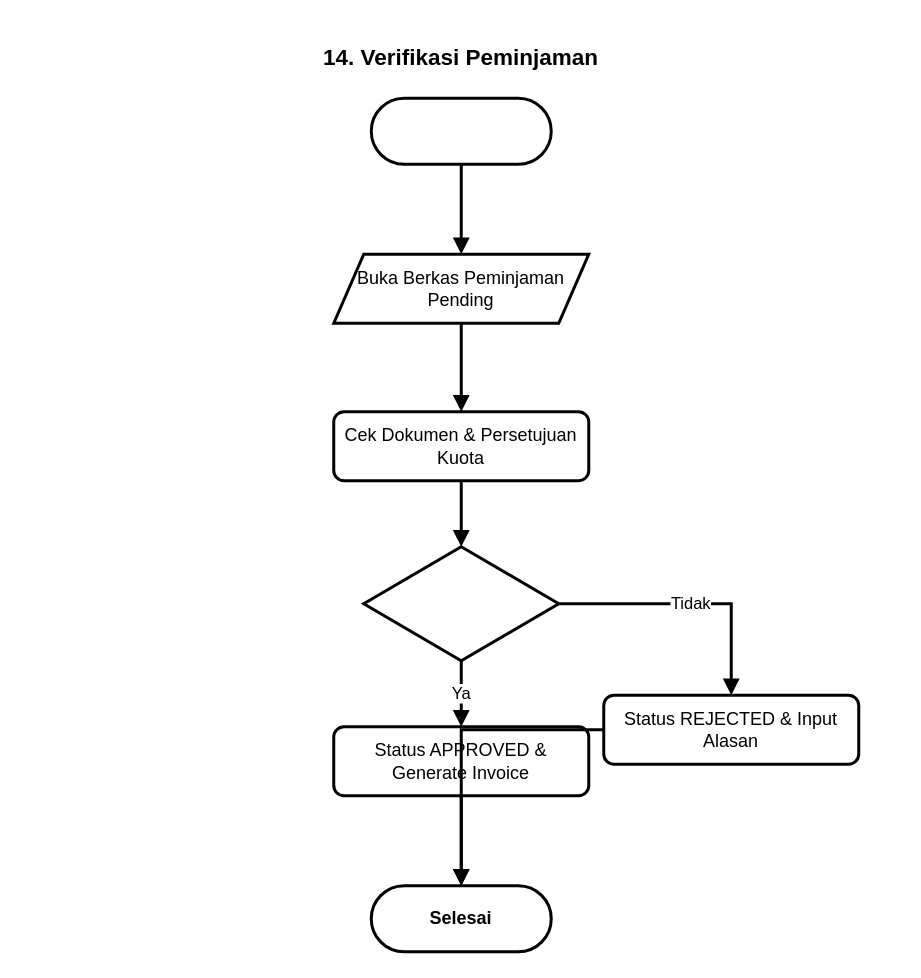
Some shapes in this 921 by 978 pixel diagram are drawn without their labels. Here are the shapes that lost their labels. From the top down, the centre of each, then its label:
the point at 460,130: Mulai
the point at 461,603: Disetujui?
